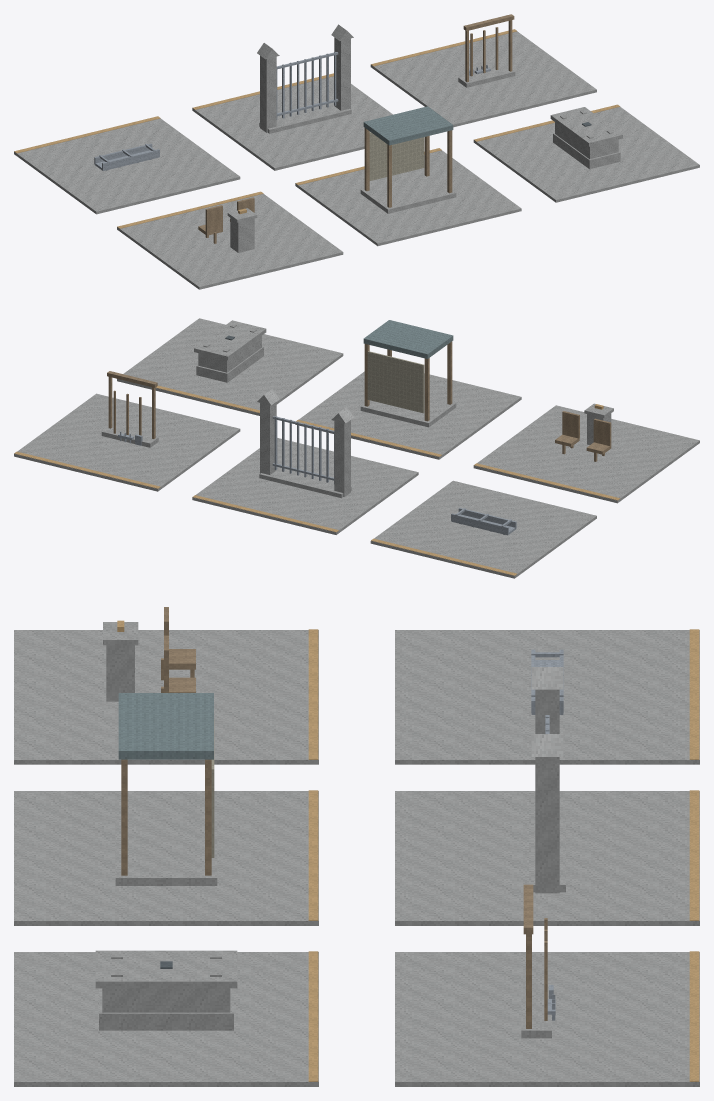
The model's file is level_blockout_kit_wld_07_p02.glb.
3 renders of one model, top to bottom at view 1: azimuth 30°, elevation 25°; view 2: azimuth 150°, elevation 25°; view 3: azimuth 270°, elevation 25°, orthographic. The views are drawn at different scales.
Visible parts, largest first — view 1: level_blockout_kit_wld_07_p02; view 2: level_blockout_kit_wld_07_p02; view 3: level_blockout_kit_wld_07_p02.
Part boxes in pixels (box(x1,y1,x2,y2)): level_blockout_kit_wld_07_p02: box(14, 14, 699, 289); level_blockout_kit_wld_07_p02: box(14, 318, 699, 578); level_blockout_kit_wld_07_p02: box(14, 607, 699, 1086).
Size of the model in its own units: 19.65 by 3.25 by 12.6.
Materials: 7 (7 with a texture image).
